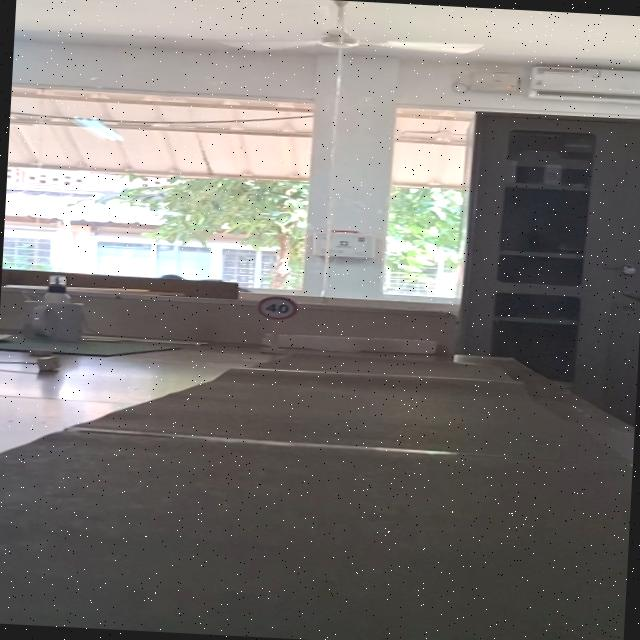Speed40: (256, 294, 300, 322)
